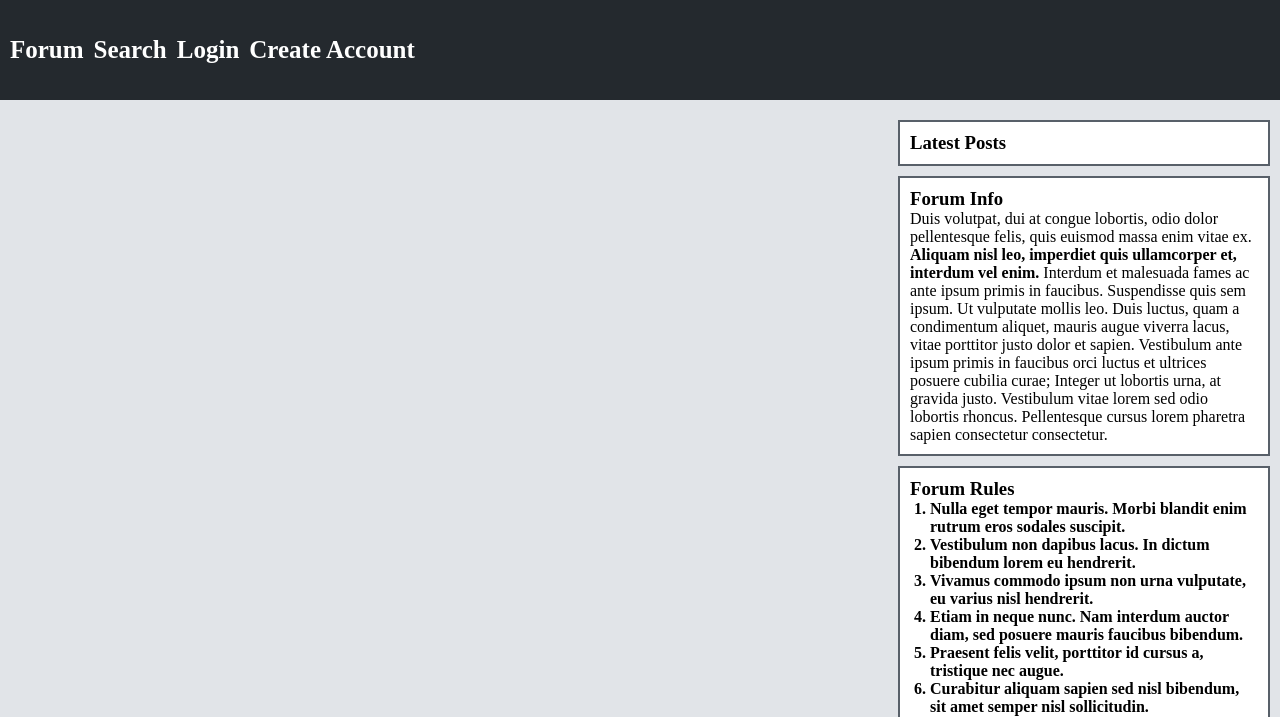
Scenario: Forum › account creation form can be opened
This screenshot has width=1280, height=717.
Click the link "Create Account".
click(332, 50)  # box [249,36,415,63]
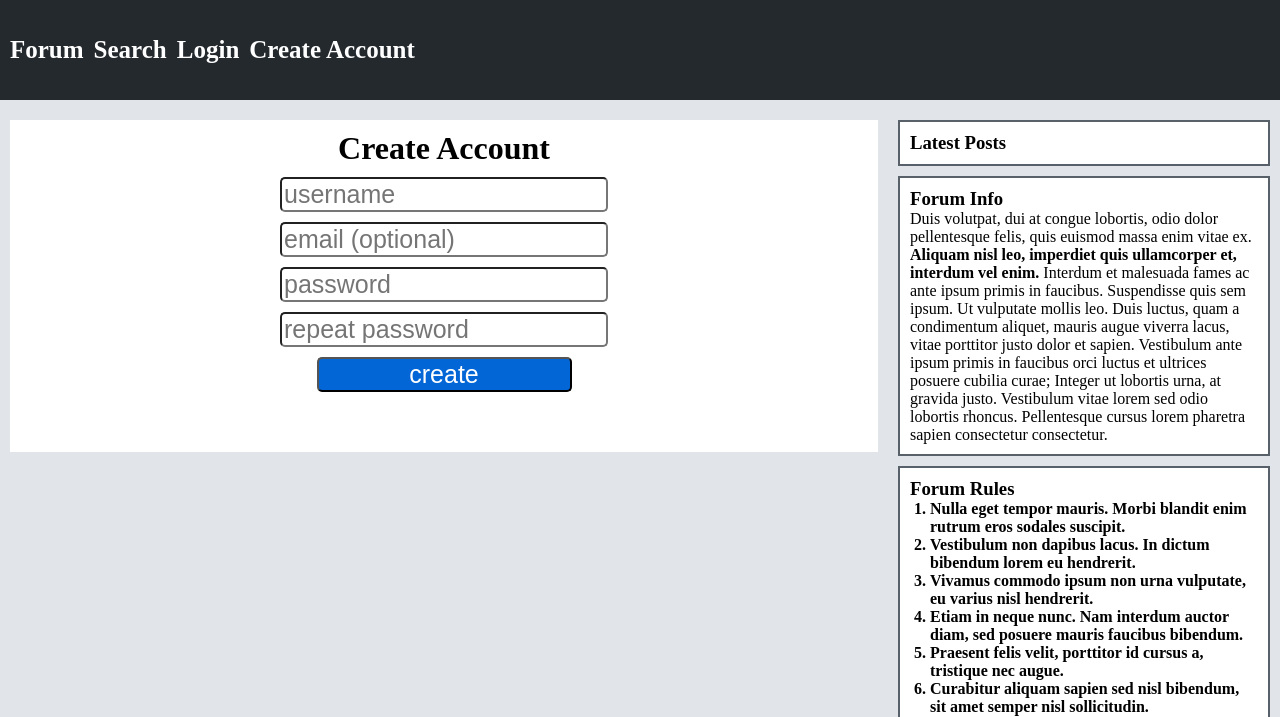
Check: the heading "Create Account" is shown, box [338,130,550,167]
Check: the field with placeholder "username" is shown, box [280,177,608,212]
Check: the button "create" is shown, box [316,357,572,392]
